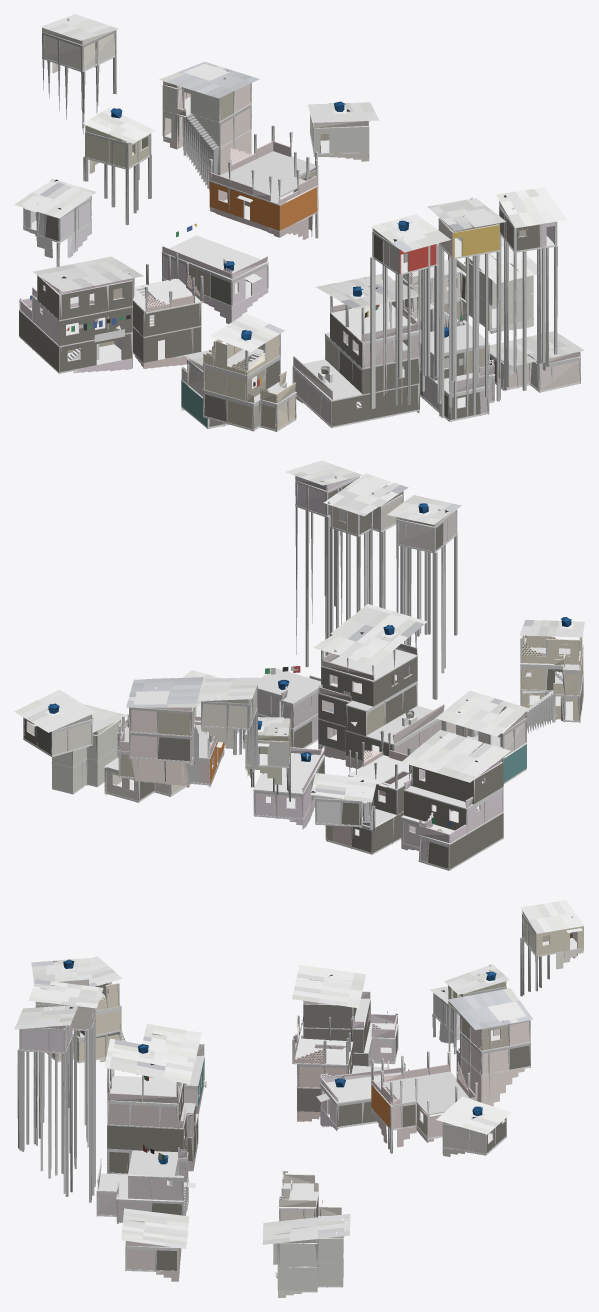
3 renders of one model, top to bottom at view 1: azimuth 30°, elevation 25°; view 2: azimuth 150°, elevation 25°; view 3: azimuth 270°, elevation 25°, orthographic. The views are drawn at different scales.
Parts seen in each view (by area): view 1: T_28_28; view 2: T_28_28; view 3: T_28_28.
Boxes of the visible parts, bbox=[...] form: T_28_28: bbox=[14, 14, 584, 431]; T_28_28: bbox=[14, 460, 584, 870]; T_28_28: bbox=[14, 900, 584, 1297].
Size of the model in its own units: 52.94 by 29.24 by 61.44.
